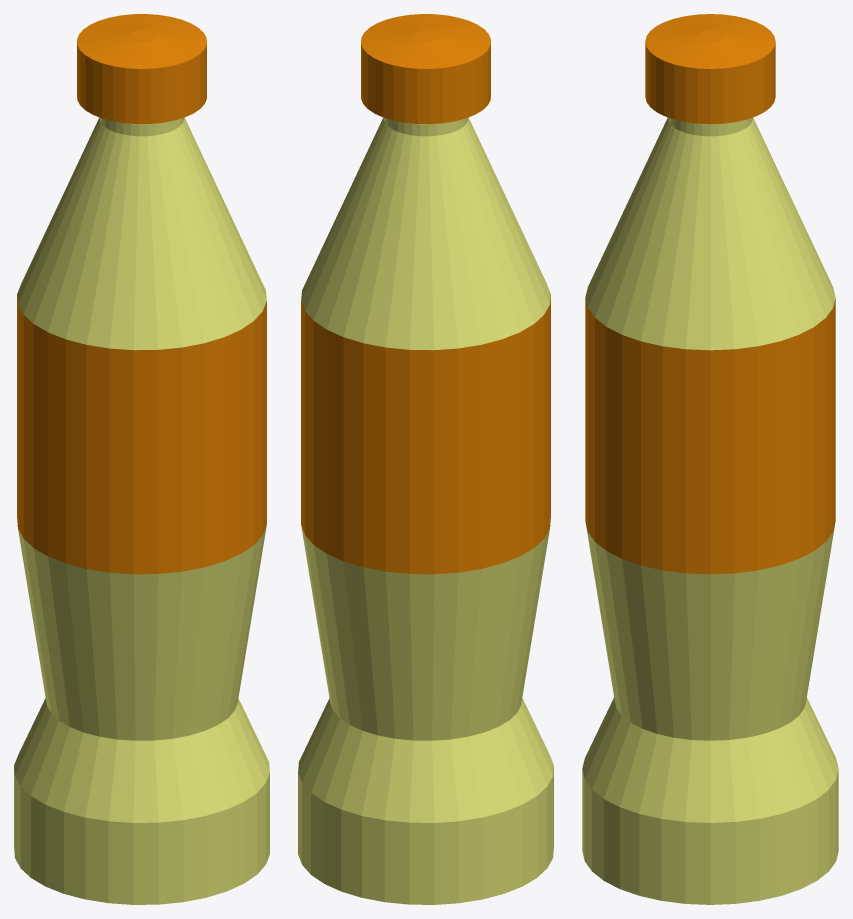
File: fless.gltf
3 renders of one model, left to right at view 1: azimuth 30°, elevation 25°; view 2: azimuth 150°, elevation 25°; view 3: azimuth 270°, elevation 25°, orthographic.
Visible parts, largest first — view 1: fanta.001; view 2: fanta.001; view 3: fanta.001.
Part boxes in pixels (left/top/right/bottom): fanta.001: left=14, top=14, right=269, bottom=904; fanta.001: left=298, top=14, right=553, bottom=904; fanta.001: left=582, top=14, right=838, bottom=904.
Bounding box in the file's own units: 0.1727 × 0.6051 × 0.1727.
